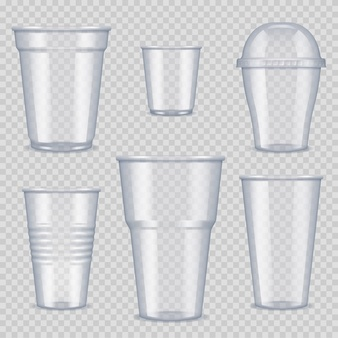plastic_glass: (108, 149, 228, 330), (234, 16, 338, 164), (7, 17, 116, 157), (235, 170, 325, 317), (20, 179, 108, 314), (134, 33, 208, 123)
